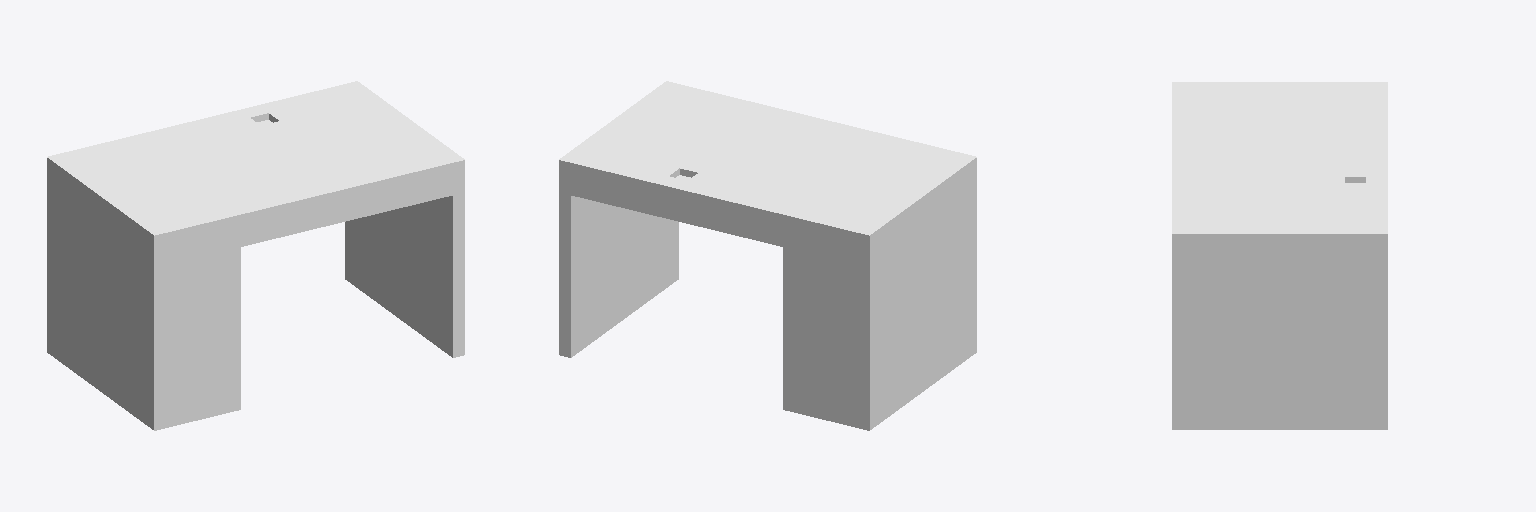
File: Desktwo.obj
The picture shows the model from 3 angles: view 1: azimuth 30°, elevation 25°; view 2: azimuth 150°, elevation 25°; view 3: azimuth 270°, elevation 25°; orthographic projection.
Parts seen in each view (by area): view 1: object 1; view 2: object 1; view 3: object 1.
Boxes of the visible parts, <box> form: object 1: <box>47,81,464,430</box>; object 1: <box>559,81,976,430</box>; object 1: <box>1172,82,1387,429</box>.
Size of the model in its own units: 5 by 3 by 3.